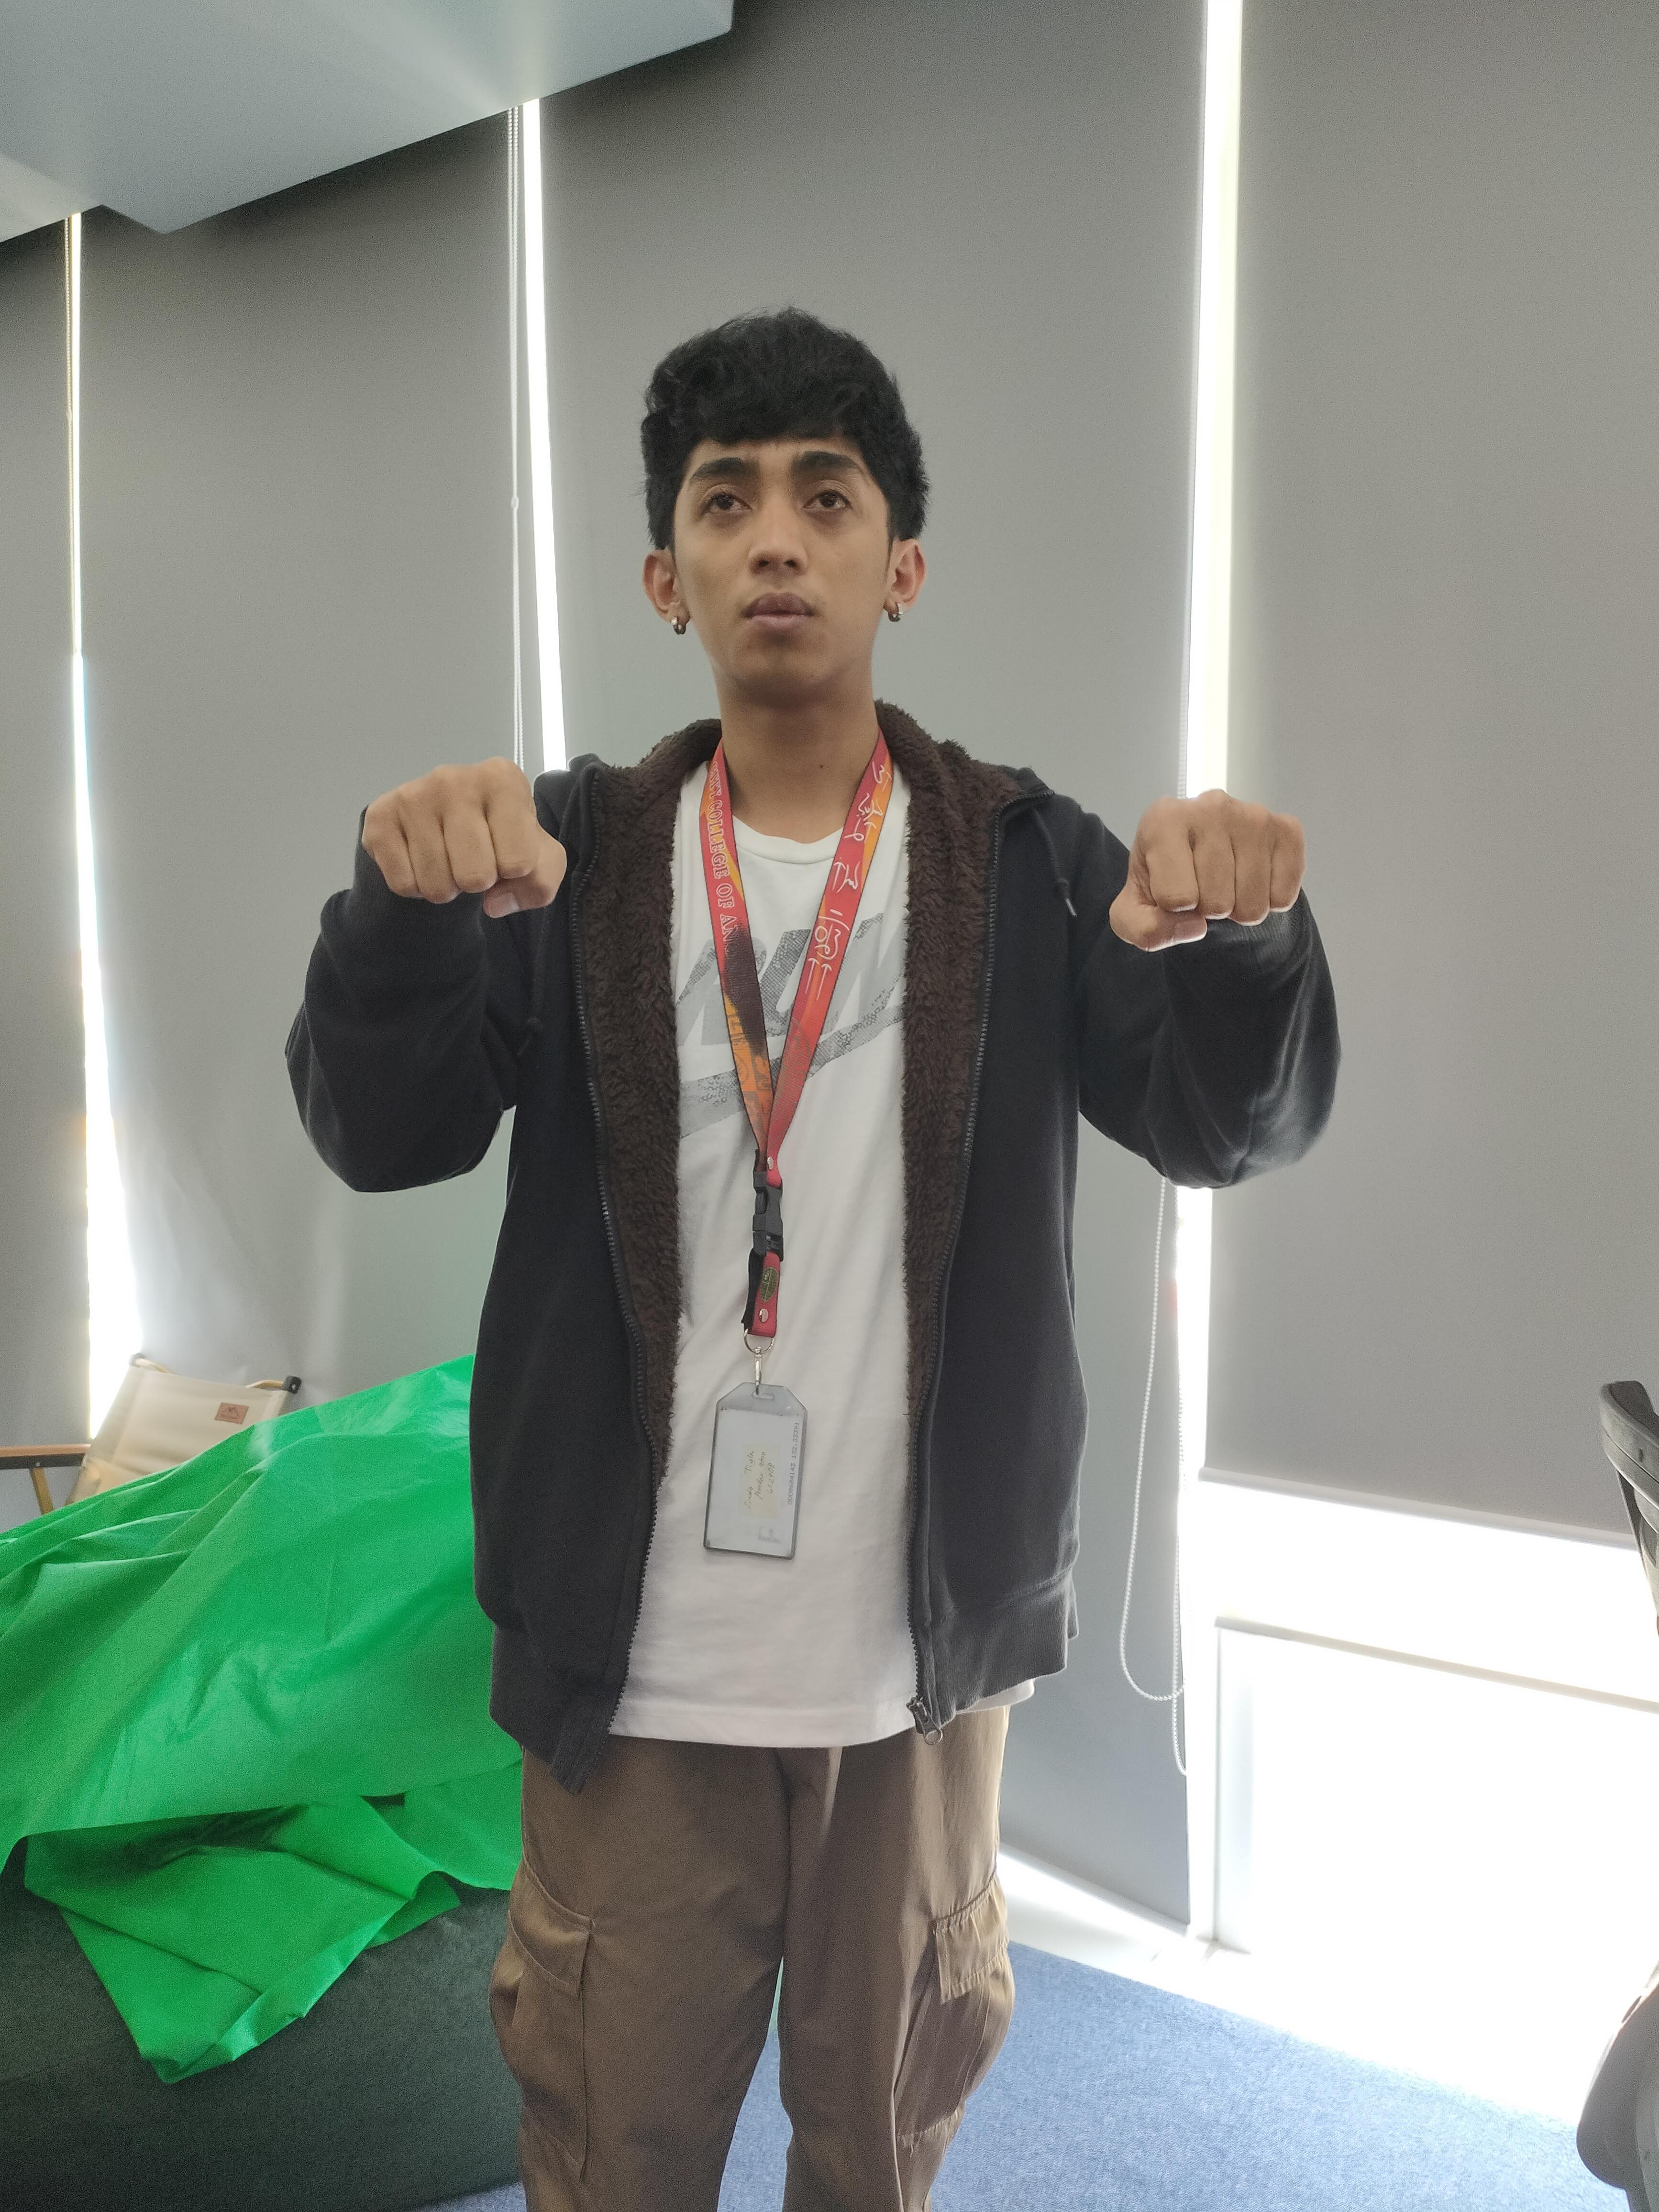Yes: (354, 758, 558, 914), (1138, 806, 1298, 935)
